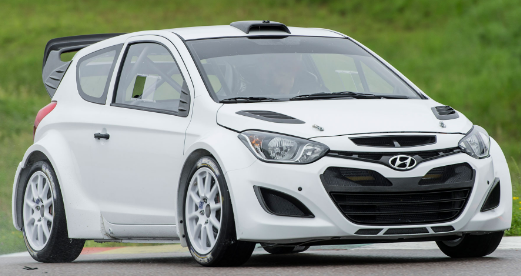car: (12, 20, 513, 266)
